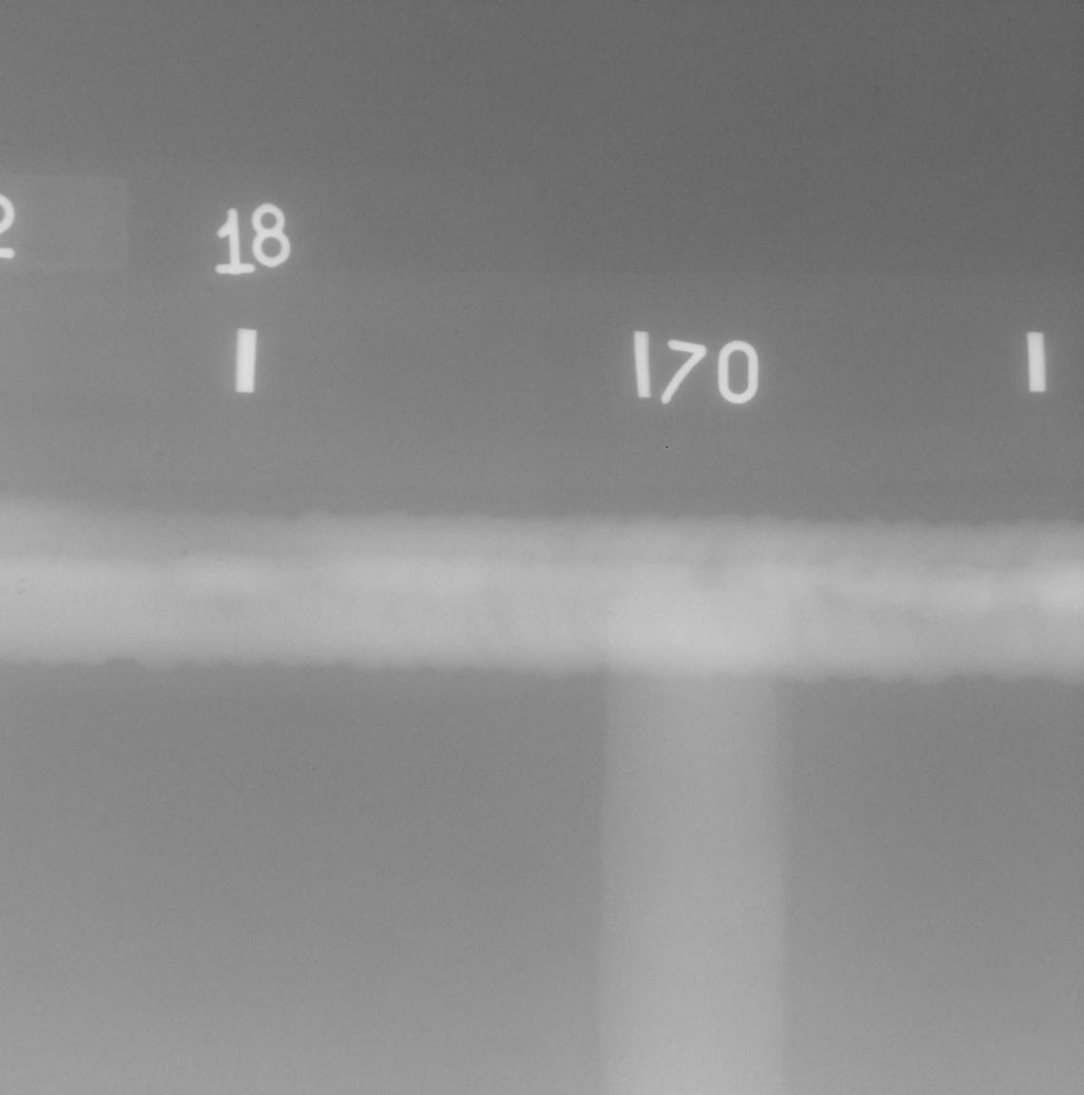Pore/Porosity: (18, 589, 25, 594), (181, 550, 188, 554), (21, 578, 26, 583), (218, 559, 221, 562)
